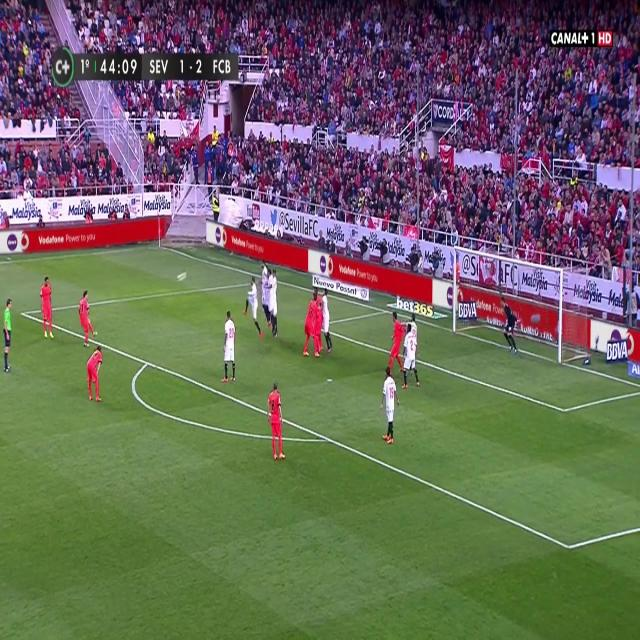Ball: (176, 268, 187, 288)
Goalkeeper: (499, 294, 522, 356)
Player: (381, 366, 402, 448), (266, 381, 286, 466), (75, 286, 99, 352), (400, 324, 422, 394), (220, 311, 240, 387), (302, 290, 322, 362), (243, 274, 263, 344), (38, 276, 58, 340), (86, 343, 106, 405), (387, 312, 405, 375), (322, 286, 334, 356), (260, 257, 270, 332), (270, 268, 279, 344)
Referee: (0, 295, 14, 376)
